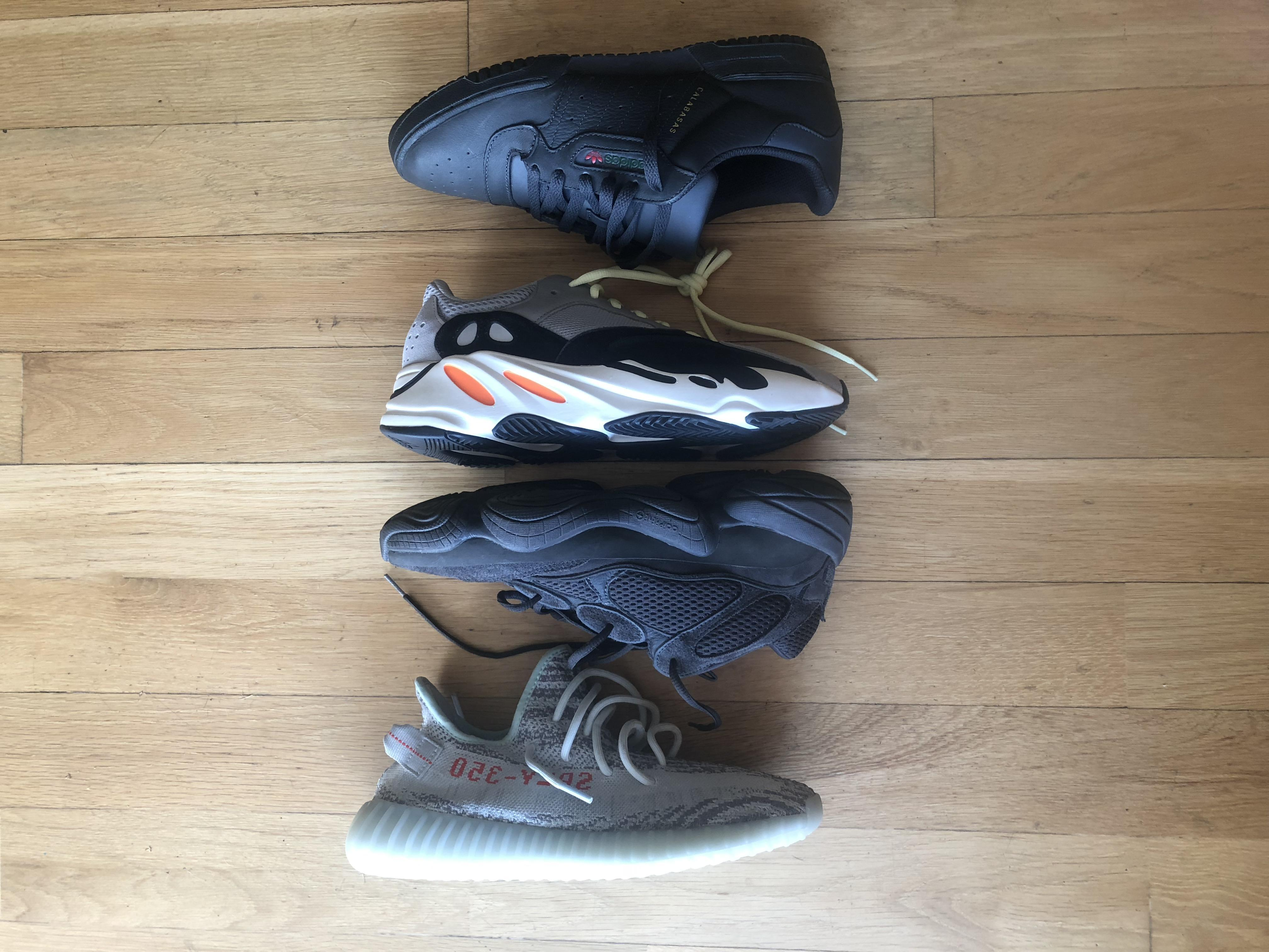sneaker: (347, 650, 831, 875), (386, 35, 847, 271), (375, 463, 853, 682), (378, 269, 851, 470)
